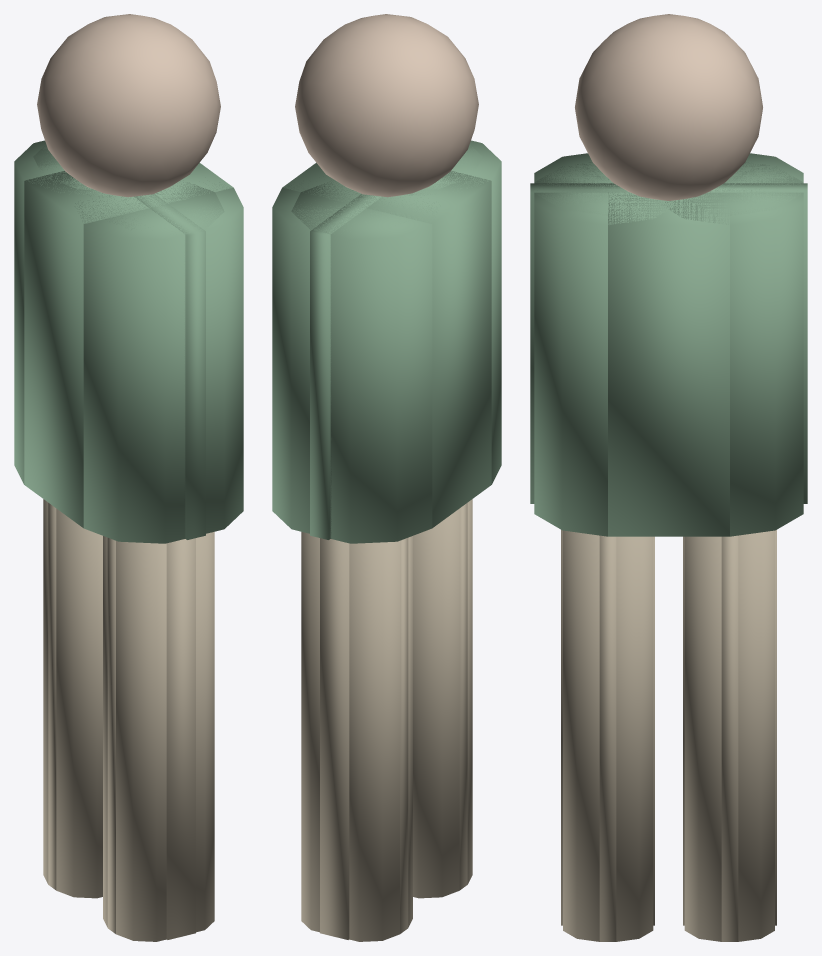
File: person_green.glb
The picture shows the model from 3 angles, left to right: view 1: azimuth 30°, elevation 25°; view 2: azimuth 150°, elevation 25°; view 3: azimuth 270°, elevation 25°; orthographic projection. The views are drawn at different scales.
Parts seen in each view (by area): view 1: person_green_2, person_green_0, person_green_3, person_green_1; view 2: person_green_2, person_green_1, person_green_3, person_green_0; view 3: person_green_2, person_green_0, person_green_1, person_green_3.
Boxes of the visible parts, left/top/right/bottom form: person_green_2: left=14, top=140, right=243, bottom=543; person_green_0: left=103, top=532, right=214, bottom=941; person_green_3: left=37, top=14, right=220, bottom=197; person_green_1: left=43, top=499, right=102, bottom=898; person_green_2: left=272, top=140, right=501, bottom=543; person_green_1: left=301, top=532, right=412, bottom=941; person_green_3: left=295, top=14, right=478, bottom=197; person_green_0: left=413, top=499, right=472, bottom=898; person_green_2: left=530, top=153, right=807, bottom=536; person_green_0: left=561, top=530, right=654, bottom=941; person_green_1: left=683, top=530, right=776, bottom=941; person_green_3: left=575, top=14, right=762, bottom=200.
Bounding box in the file's own units: 0.34 × 1.78 × 0.5.
